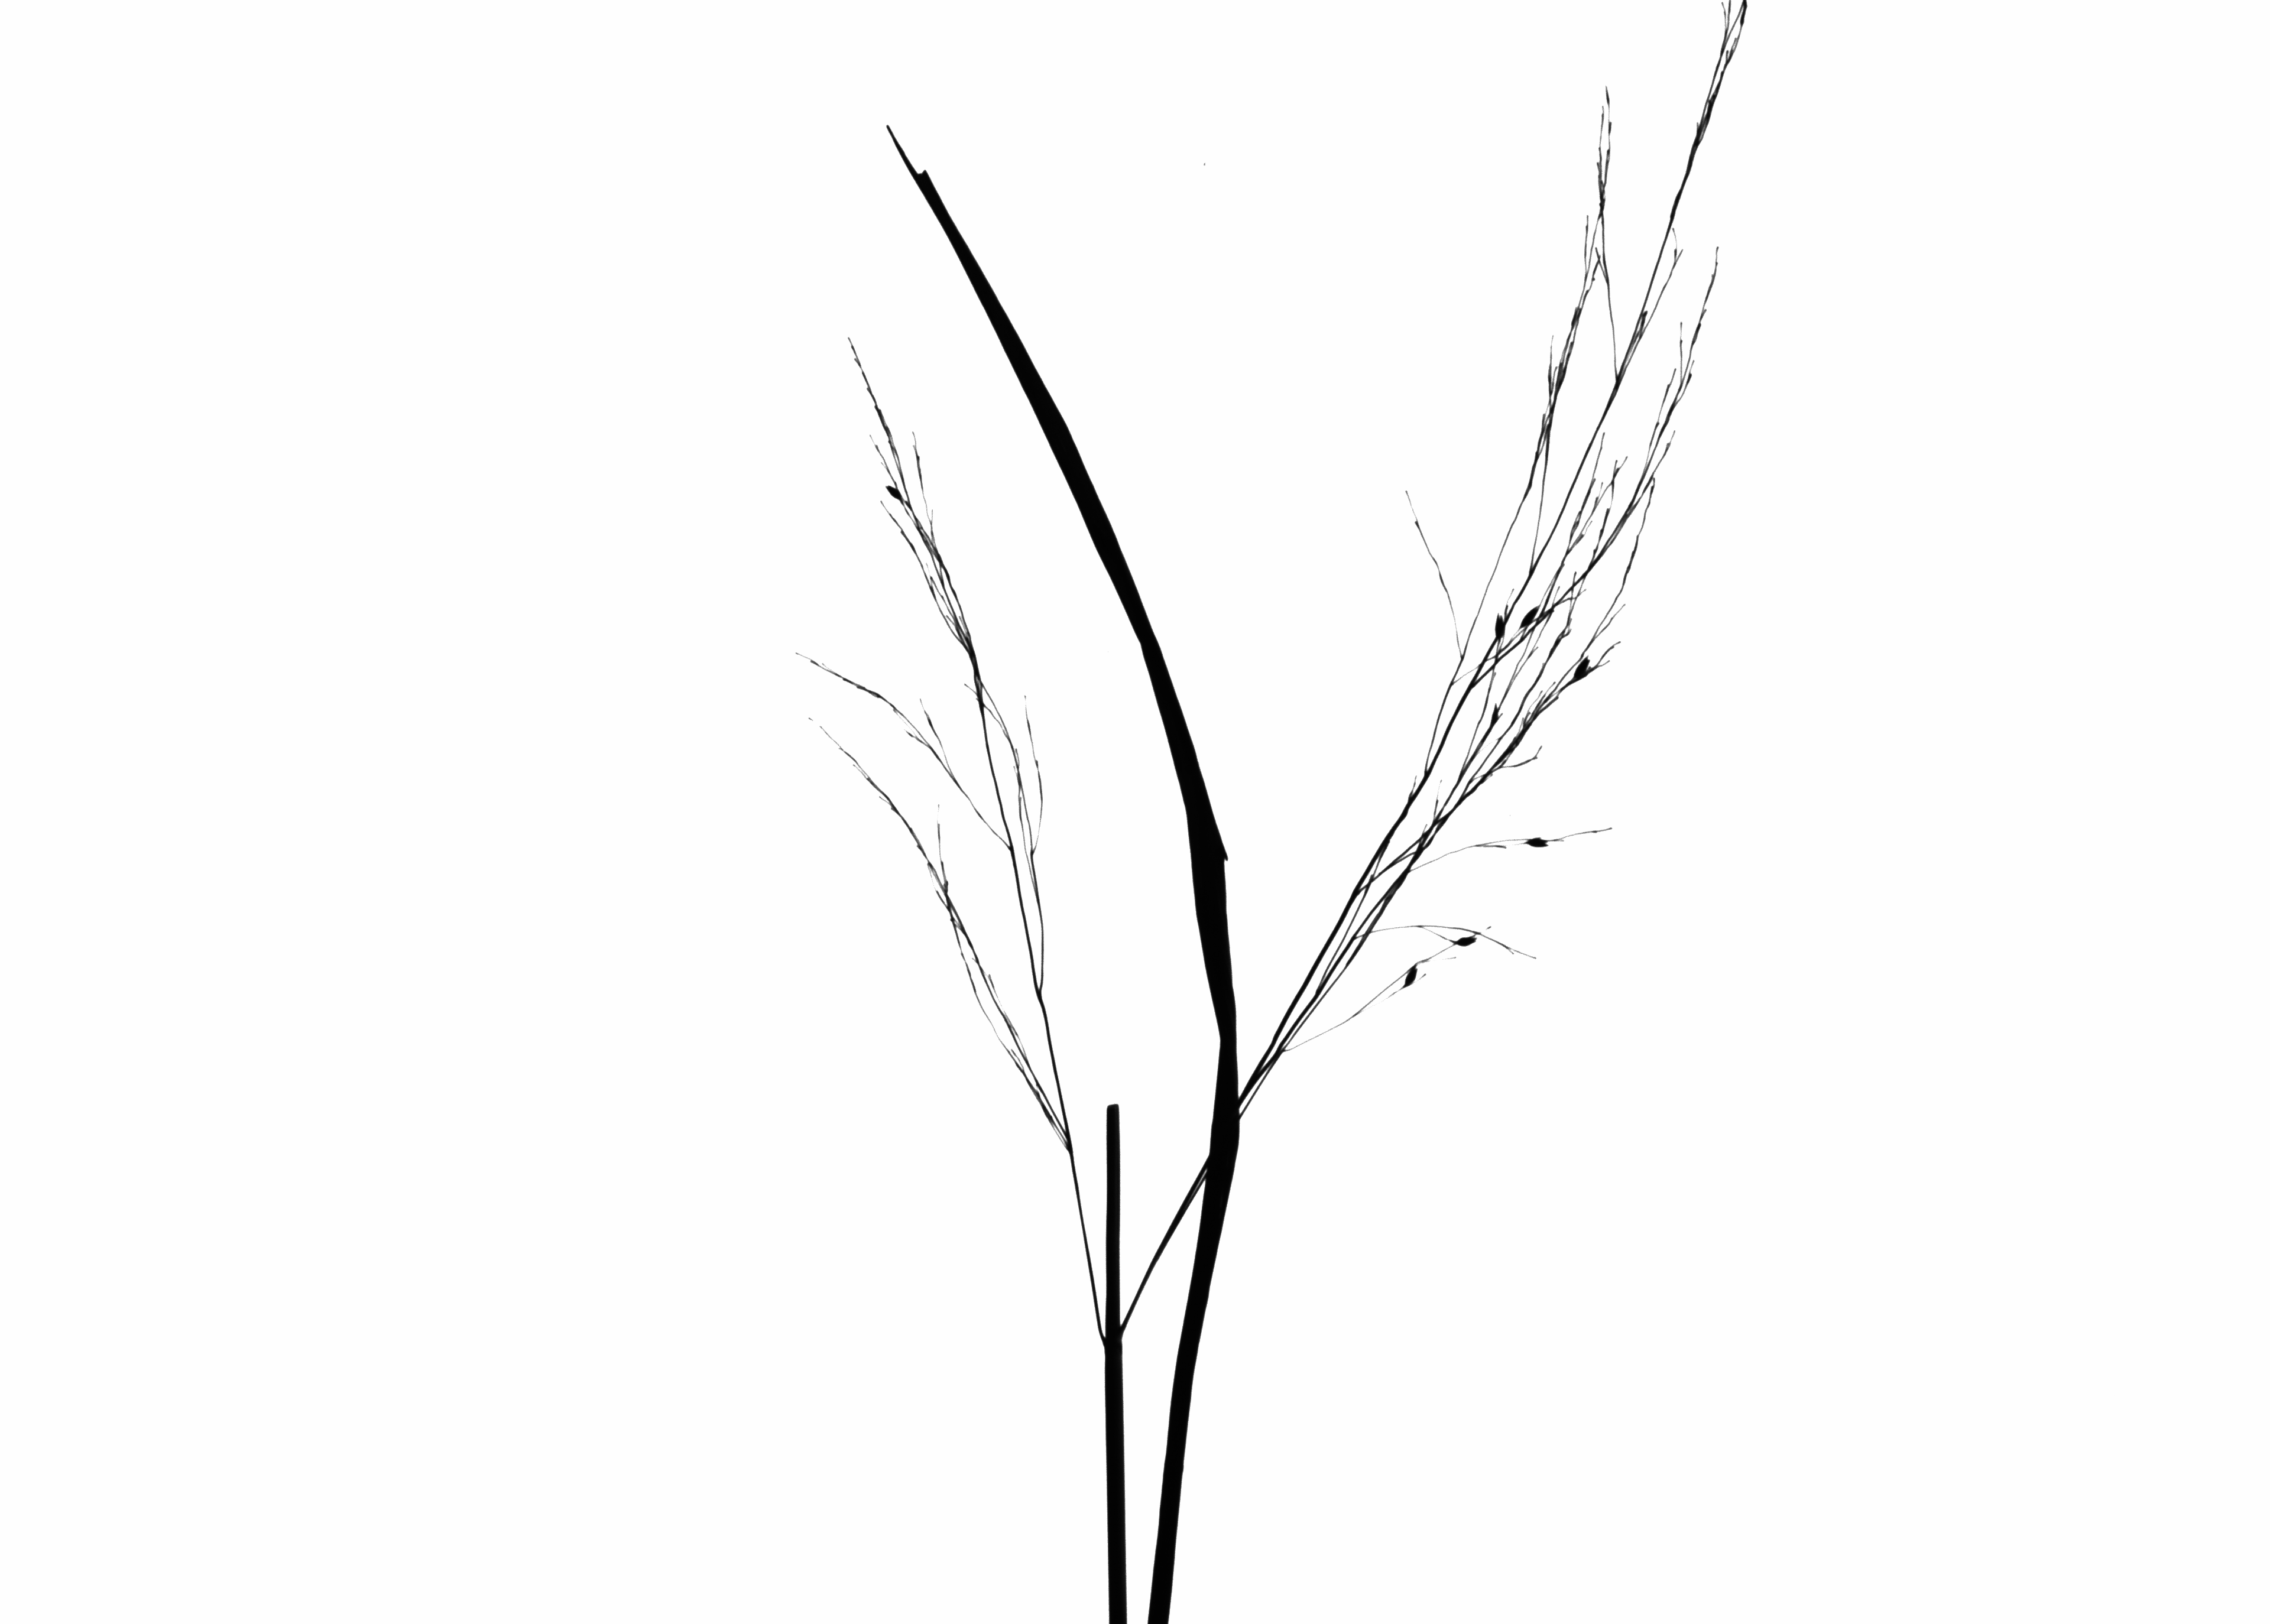seed: (1570, 649, 1597, 691), (1521, 828, 1554, 856), (1517, 605, 1544, 634), (881, 482, 911, 508), (1444, 933, 1482, 951), (1400, 958, 1421, 990), (1489, 612, 1507, 647)
